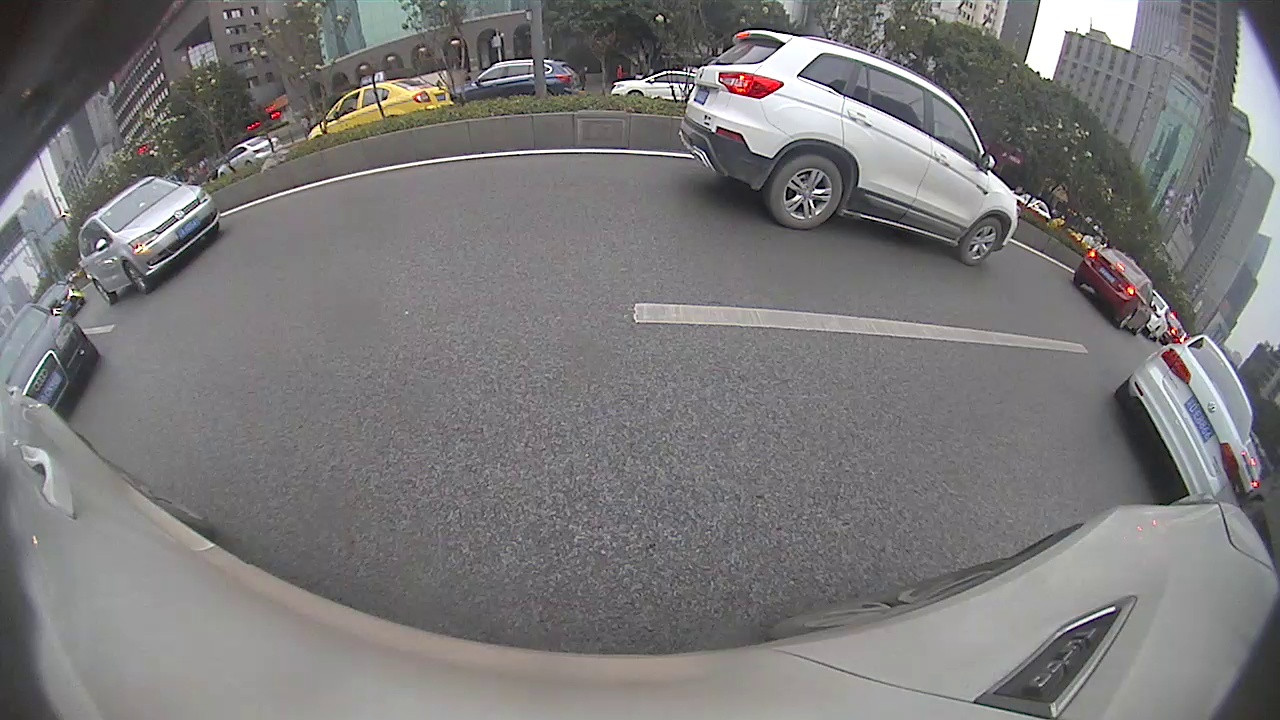car: (677, 29, 1021, 269), (1114, 331, 1253, 501), (77, 176, 222, 304), (308, 73, 455, 144), (1, 303, 98, 410), (1071, 245, 1157, 338)
front: (960, 220, 1005, 266), (124, 262, 149, 295)
rear: (772, 158, 843, 229), (93, 279, 114, 305)
